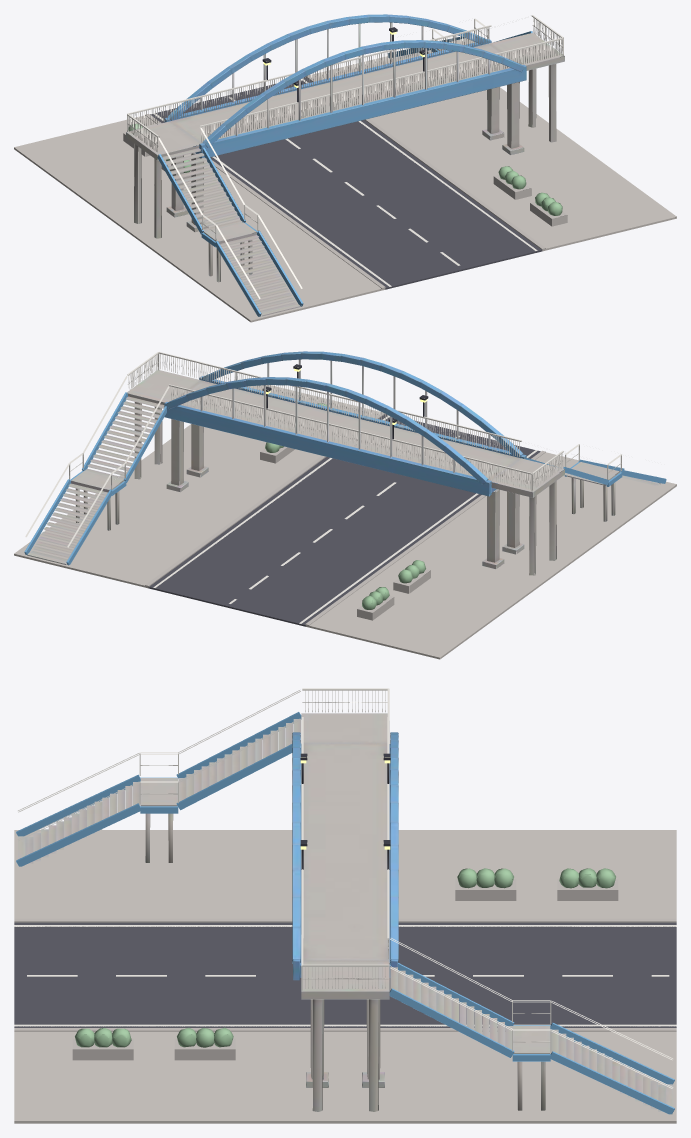
File: pedestrian-bridge.glb
3 views of the same model, one above another, from view 1: azimuth 30°, elevation 25°; view 2: azimuth 150°, elevation 25°; view 3: azimuth 270°, elevation 25° (orthographic). The views are drawn at different scales.
Parts seen in each view (by area): view 1: pedestrian-bridge_details, pedestrian-bridge_body; view 2: pedestrian-bridge_details, pedestrian-bridge_body; view 3: pedestrian-bridge_details, pedestrian-bridge_body.
Part boxes in pixels (<box>): pedestrian-bridge_details: <box>14,15,676,322</box>; pedestrian-bridge_body: <box>126,14,564,316</box>; pedestrian-bridge_details: <box>14,352,676,659</box>; pedestrian-bridge_body: <box>27,351,660,575</box>; pedestrian-bridge_details: <box>14,688,676,1123</box>; pedestrian-bridge_body: <box>18,713,673,1111</box>.
Bounding box in the file's own units: 27 × 9.03 × 26.
Materials: 3 (3 with a texture image).
